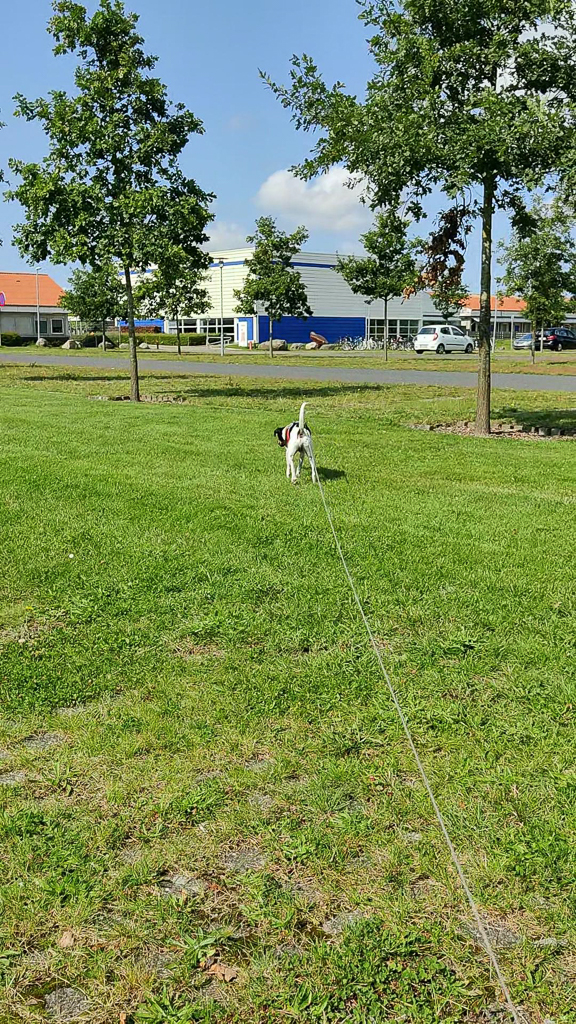Dog: (265, 396, 330, 489)
